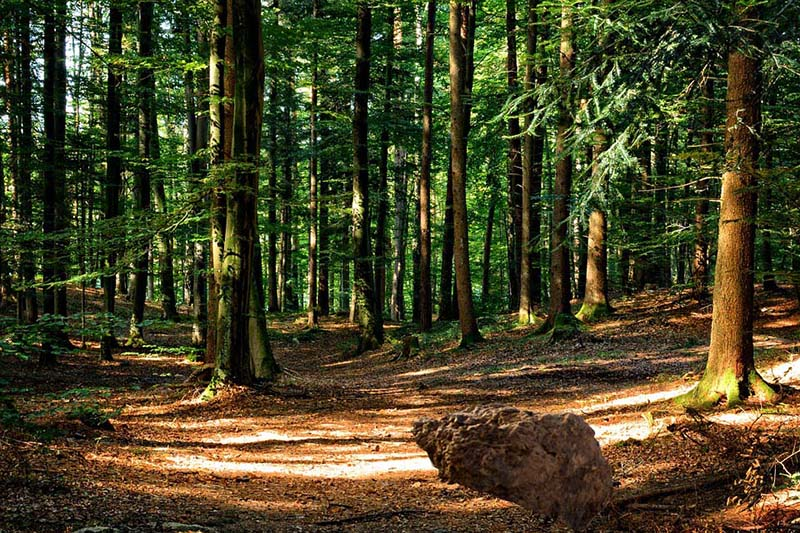Rocks: (408, 400, 620, 529)
